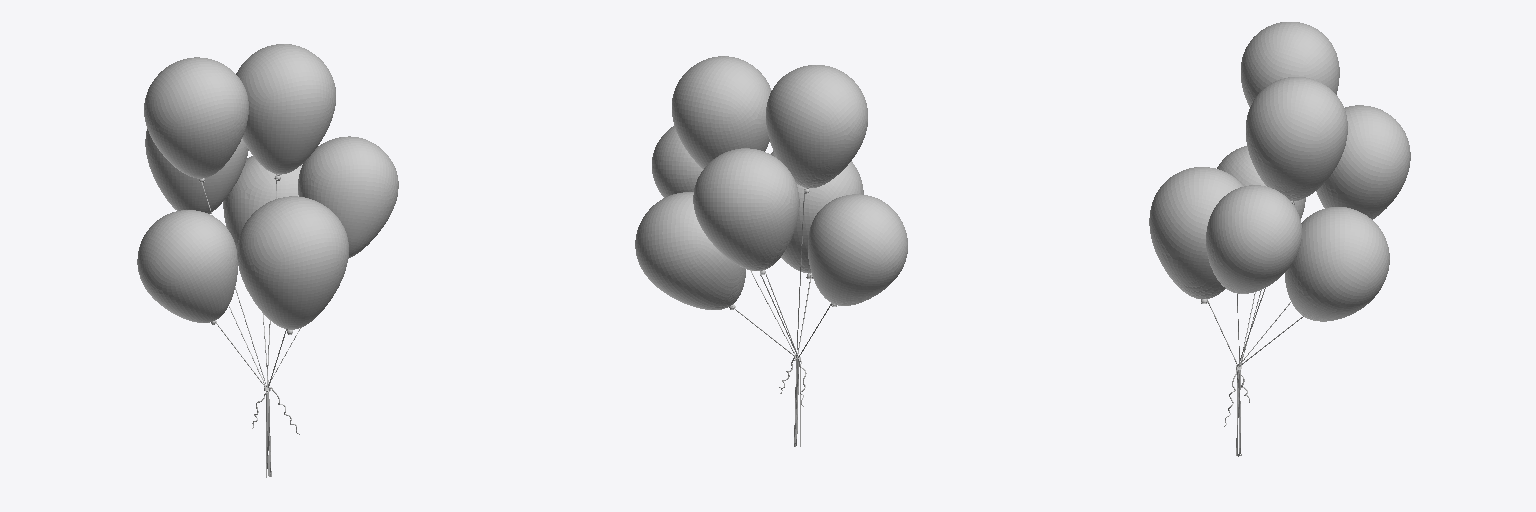
The picture shows the model from 3 angles: view 1: azimuth 30°, elevation 25°; view 2: azimuth 150°, elevation 25°; view 3: azimuth 270°, elevation 25°; orthographic projection.
Visible parts, largest first — view 1: group_of_balloons.1_Mesh_0; view 2: group_of_balloons.1_Mesh_0; view 3: group_of_balloons.1_Mesh_0.
Boxes of the visible parts, x1,y1,x2,y2 form: group_of_balloons.1_Mesh_0: [137, 44, 398, 477]; group_of_balloons.1_Mesh_0: [635, 56, 907, 446]; group_of_balloons.1_Mesh_0: [1149, 22, 1410, 456].
Size of the model in its own units: 0.5557 by 0.8748 by 0.5094.